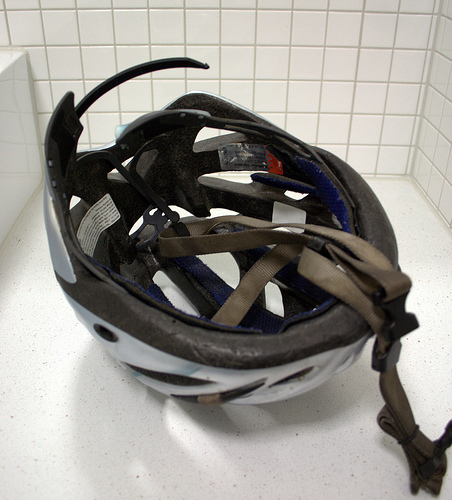helmet: (48, 113, 404, 382)
